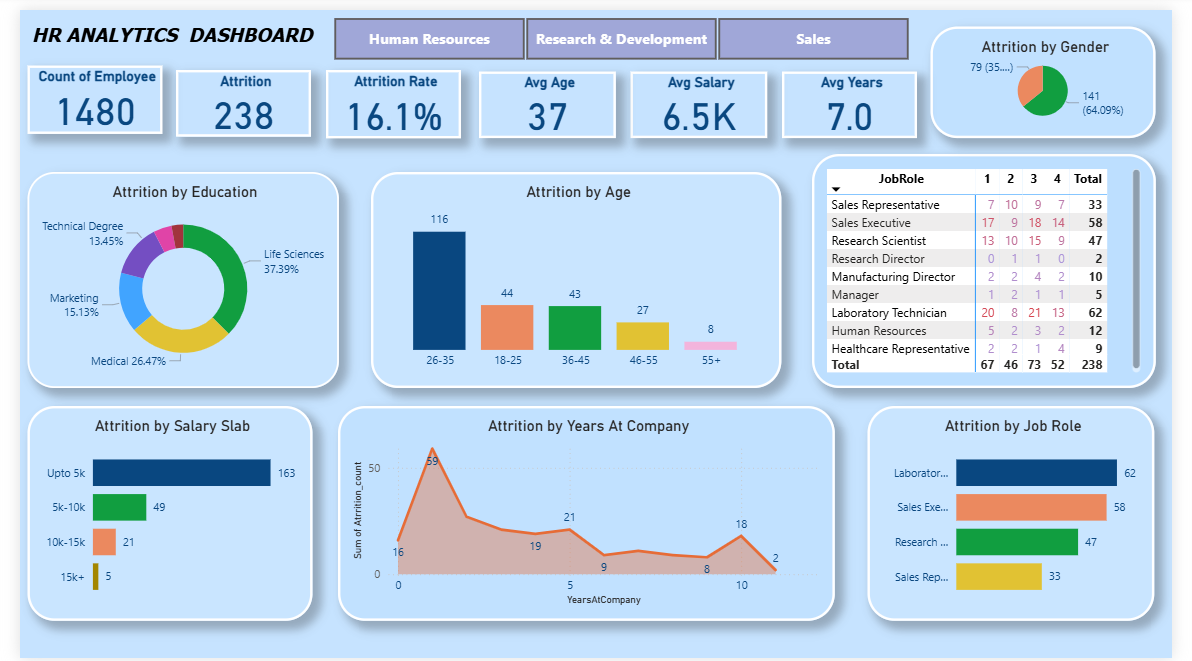

Layout of this report page (visuals, bound fields, positions):
{"tool":"powerbi","page":{"name":"Page 1","canvas":[1280,720],"ordinal":0},"visuals":[{"type":"card","title":"Count of Employee","fields":{"Values":["CountNonNull(HR_Analytics.EmpID)"]},"box":[8,62,150,76],"z":0},{"type":"card","title":"Avg Salary","fields":{"Values":["Avg(HR_Analytics.MonthlyIncome)"]},"box":[678,68,152,74],"z":1},{"type":"card","title":"Attrition","fields":{"Values":["Sum(HR_Analytics.Atrrition_count)"]},"box":[174,66,150,74],"z":2},{"type":"card","title":"Attrition Rate","fields":{"Values":["HR_Analytics.Attritionrate"]},"box":[340,66,150,76],"z":4},{"type":"card","title":"Avg Years","fields":{"Values":["Avg(HR_Analytics.YearsAtCompany)"]},"box":[846,68,150,74],"z":6},{"type":"card","title":"Avg Age","fields":{"Values":["Avg(HR_Analytics.Age)"]},"box":[510,68,152,74],"z":7},{"type":"donutChart","title":"Attrition by Education","fields":{"Category":["HR_Analytics.EducationField"],"Y":["Sum(HR_Analytics.Atrrition_count)"]},"box":[8,180,346,240],"z":8},{"type":"columnChart","title":"Attrition by Age","fields":{"Category":["HR_Analytics.AgeGroup"],"Y":["Sum(HR_Analytics.Atrrition_count)"]},"box":[390,180,456,240],"z":9},{"type":"pivotTable","fields":{"Rows":["HR_Analytics.JobRole"],"Columns":["HR_Analytics.JobSatisfaction"],"Values":["Sum(HR_Analytics.Atrrition_count)"]},"box":[880,160,382,260],"z":10},{"type":"clusteredBarChart","title":"Attrition by Salary Slab","fields":{"Category":["HR_Analytics.SalarySlab"],"Y":["Sum(HR_Analytics.Atrrition_count)"]},"box":[8.3,440,316.7,238.3],"z":11},{"type":"areaChart","title":"Attrition by Years At Company","fields":{"Category":["HR_Analytics.YearsAtCompany"],"Y":["Sum(HR_Analytics.Atrrition_count)"]},"box":[353.3,440,551.7,238.3],"z":12},{"type":"clusteredBarChart","title":"Attrition by Job Role","fields":{"Category":["HR_Analytics.JobRole"],"Y":["Sum(HR_Analytics.Atrrition_count)"]},"box":[941.7,440,318.3,238.3],"z":13},{"type":"pieChart","title":"Attrition by Gender","fields":{"Category":["HR_Analytics.Gender"],"Y":["Sum(HR_Analytics.Atrrition_count)"]},"box":[1012,18,250,124],"z":14},{"type":"slicer","fields":{"Values":["HR_Analytics.Department"]},"box":[324,2,688,60],"z":15},{"type":"textbox","box":[8,8,332,60],"z":16}]}

Visuals, with their boxes in screenshot pixels (x1, y1, x2, y2), scaled from the page's 1280x720 canvas onto the 1192x661 screenshot:
"Count of Employee" card: (7, 57, 147, 127)
"Avg Salary" card: (631, 62, 773, 130)
"Attrition" card: (162, 61, 302, 129)
"Attrition Rate" card: (317, 61, 456, 130)
"Avg Years" card: (788, 62, 928, 130)
"Avg Age" card: (475, 62, 616, 130)
"Attrition by Education" donutChart: (7, 165, 330, 386)
"Attrition by Age" columnChart: (363, 165, 788, 386)
pivotTable - HR_Analytics.JobRole x HR_Analytics.JobSatisfaction: (820, 147, 1175, 386)
"Attrition by Salary Slab" clusteredBarChart: (8, 404, 303, 623)
"Attrition by Years At Company" areaChart: (329, 404, 843, 623)
"Attrition by Job Role" clusteredBarChart: (877, 404, 1173, 623)
"Attrition by Gender" pieChart: (942, 17, 1175, 130)
slicer - HR_Analytics.Department: (302, 2, 942, 57)
textbox: (7, 7, 317, 62)
